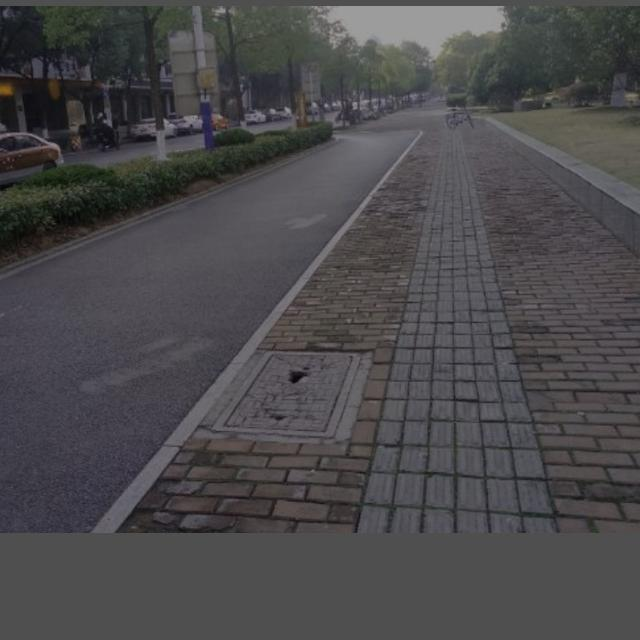broke: (212, 348, 364, 438)
